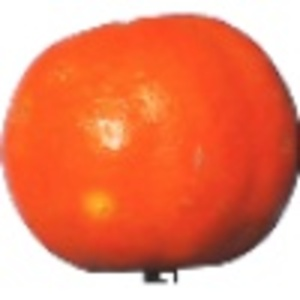tangerina: (1, 11, 300, 280)
